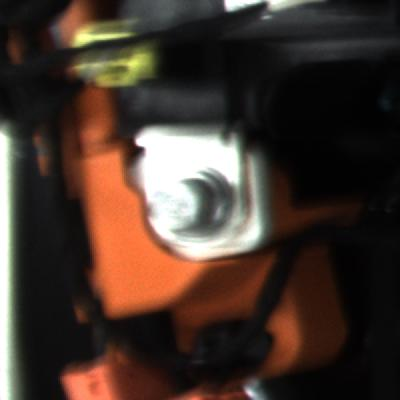nut_b: (151, 162, 238, 241)
